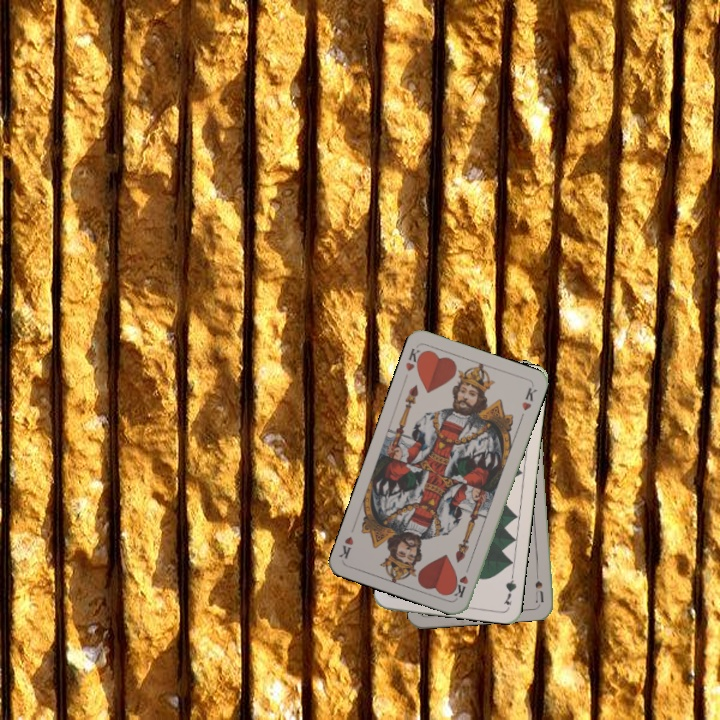G7: (500, 567, 519, 608)
HK: (449, 561, 473, 600), (402, 344, 427, 374)
SU: (531, 563, 546, 604)
